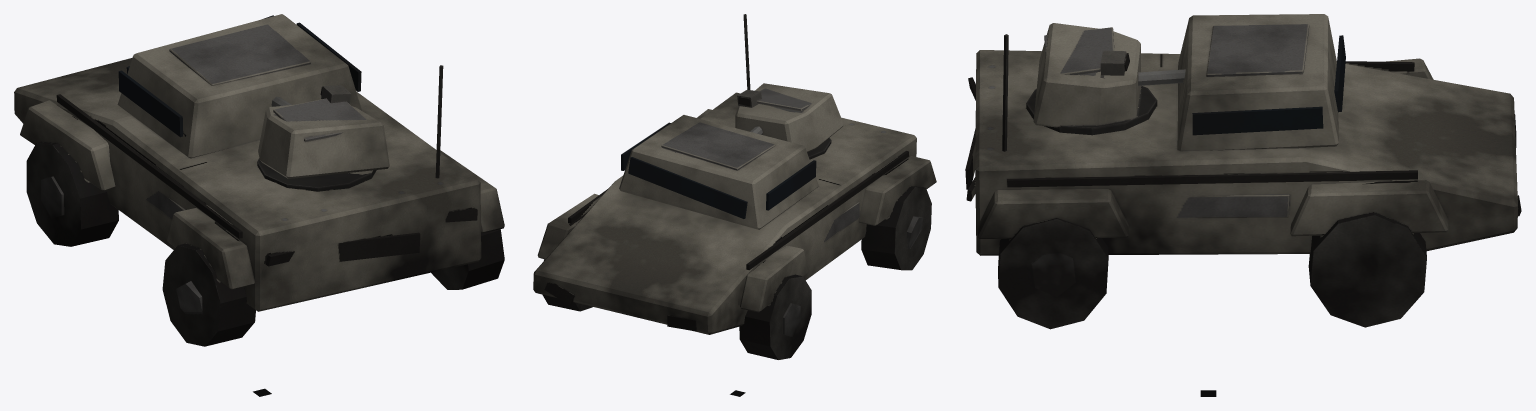
The model's file is ord_herald_wreck.fbx.
The picture shows the model from 3 angles, left to right: view 1: azimuth 30°, elevation 25°; view 2: azimuth 150°, elevation 25°; view 3: azimuth 270°, elevation 25°; orthographic projection. The views are drawn at different scales.
Visible parts, largest first — view 1: base_bar, turret_bar; view 2: base_bar, turret_bar; view 3: base_bar, turret_bar.
Boxes of the visible parts, x1,y1,x2,y2 form: base_bar: (14,14,504,346); turret_bar: (257,85,389,191); base_bar: (533,14,936,359); turret_bar: (735,83,843,159); base_bar: (965,14,1521,329); turret_bar: (1026,23,1185,135).
Bounding box in the file's own units: 475 × 571 × 714.
2 materials, 2 textured.
